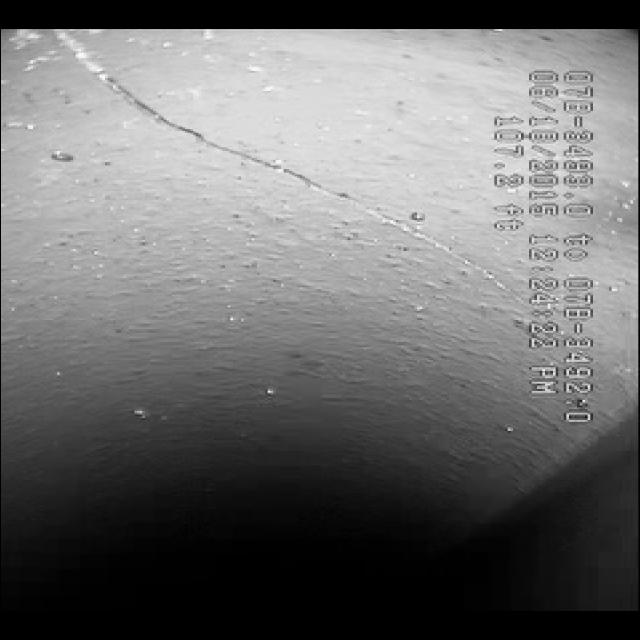Crack: (92, 72, 426, 234)
